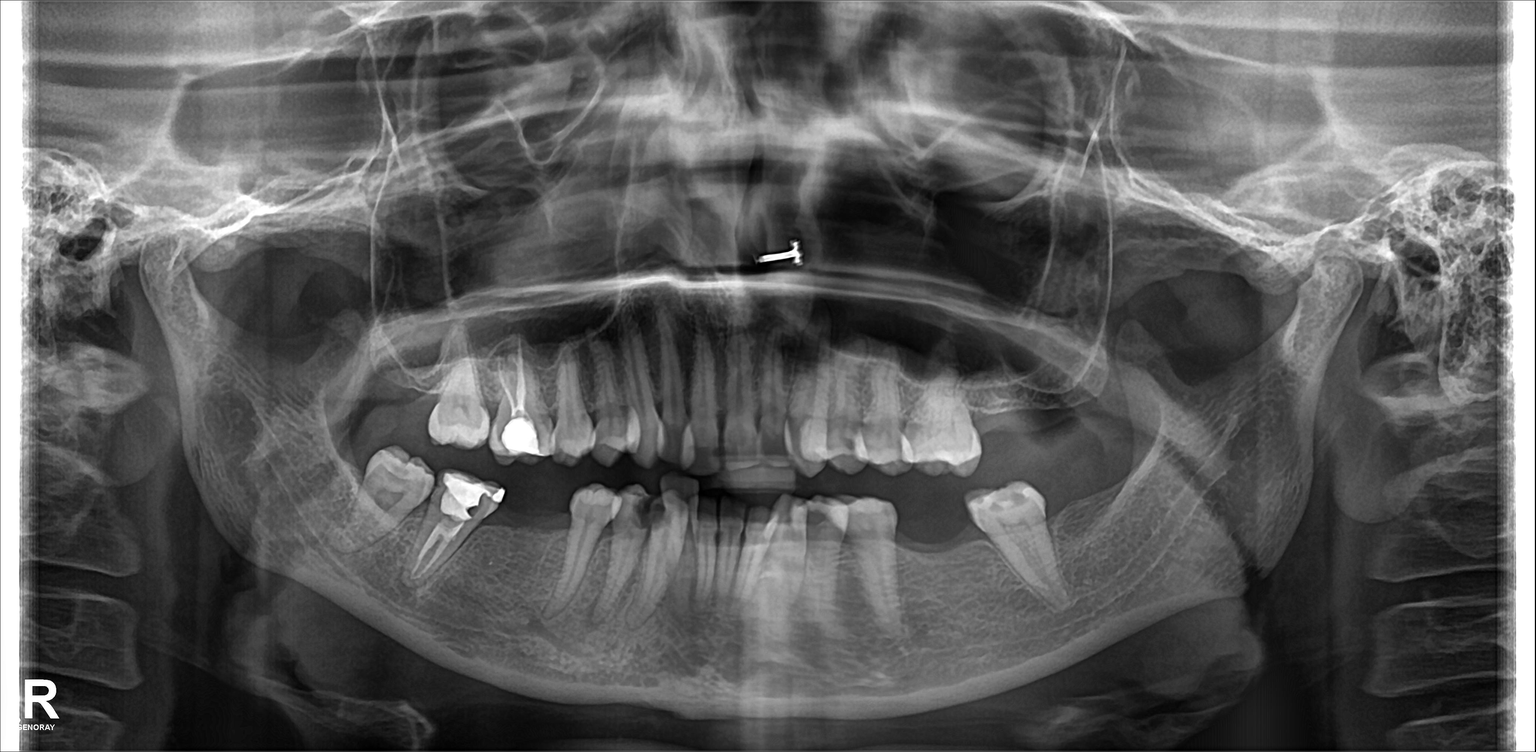Dental Caries: (631, 503, 670, 530)
Endodontically Treated Tooth: (492, 350, 554, 465), (428, 478, 489, 582)
Missing Tooth: (896, 497, 968, 596), (501, 497, 565, 588), (1075, 359, 1122, 454), (395, 344, 445, 431), (976, 365, 1021, 454), (1026, 361, 1067, 453), (1099, 477, 1144, 559), (354, 352, 398, 429), (1054, 493, 1092, 567)
